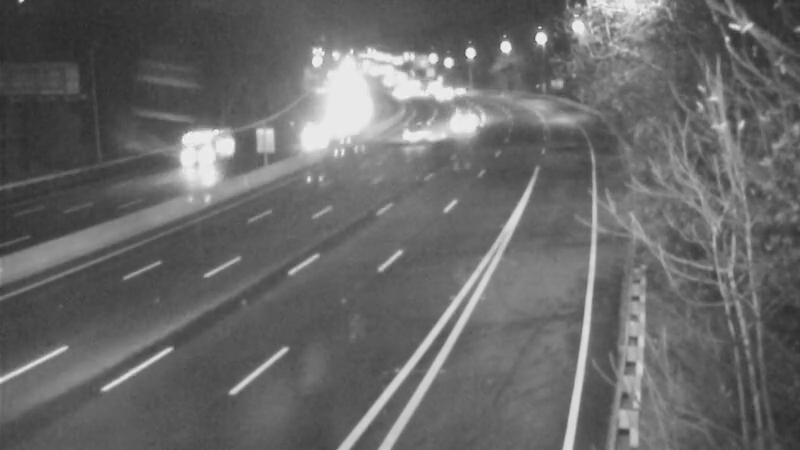vehicle: (156, 113, 236, 193), (434, 68, 484, 118), (418, 69, 468, 119), (436, 92, 486, 142), (391, 108, 441, 158), (290, 113, 340, 163)
